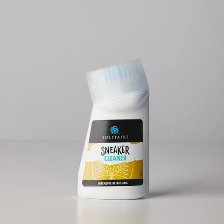cleaning_solution: (72, 49, 153, 201)
